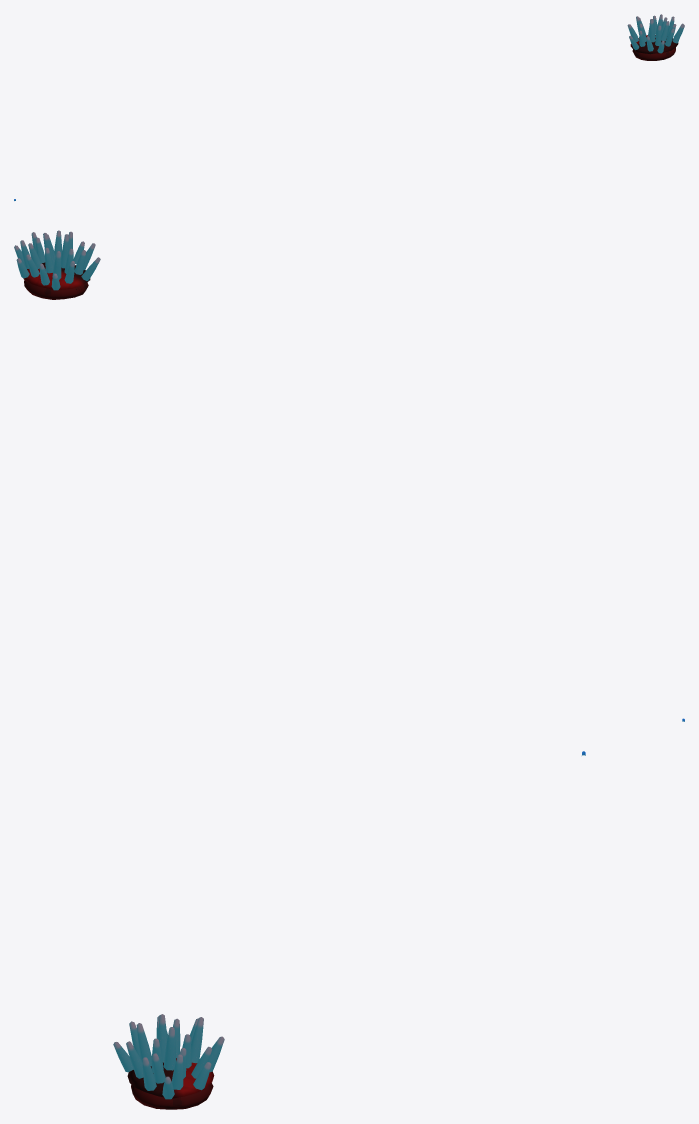
File: acropora.glb
The picture shows the model from 3 angles, top to bottom: view 1: azimuth 30°, elevation 25°; view 2: azimuth 150°, elevation 25°; view 3: azimuth 270°, elevation 25°; orthographic projection. The views are drawn at different scales.
Parts seen in each view (by area): view 1: Body; view 2: Body; view 3: Body.
Boxes of the visible parts, box(x1,y1,x2,y2) form: Body: box(627, 14, 684, 60); Body: box(14, 230, 100, 299); Body: box(113, 1014, 224, 1109).
Bounding box in the file's own units: 63.37 × 13.91 × 22.89.
4 materials, 4 textured.
